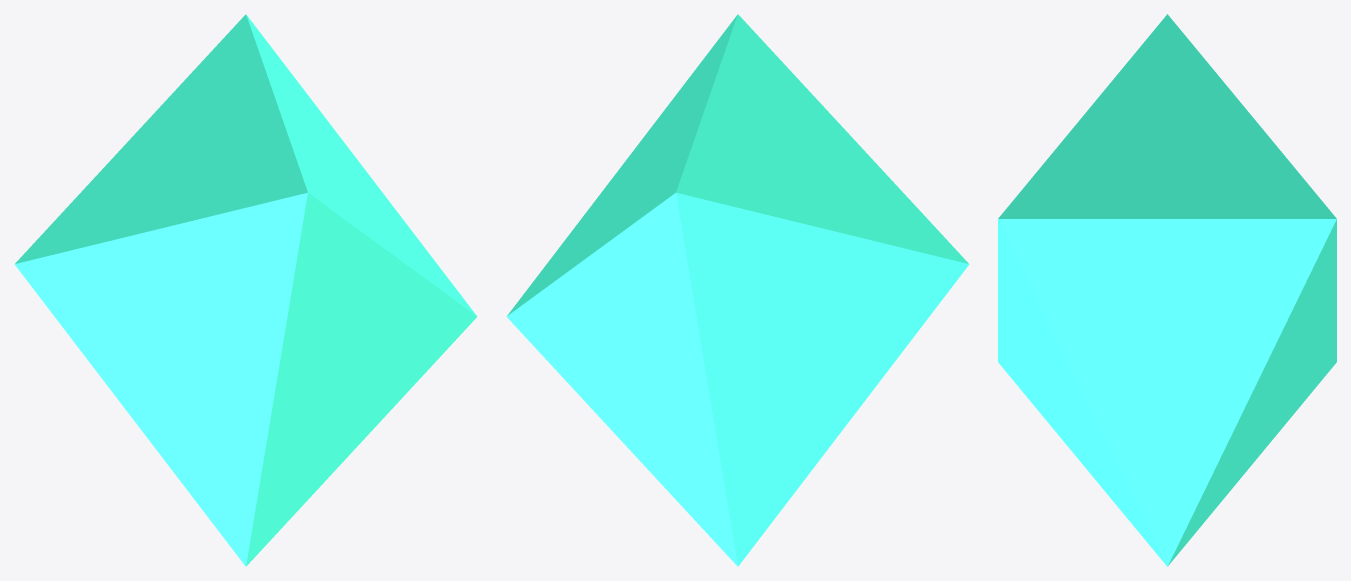
File: terra_worldmaul.glb
The picture shows the model from 3 angles, left to right: view 1: azimuth 30°, elevation 25°; view 2: azimuth 150°, elevation 25°; view 3: azimuth 270°, elevation 25°; orthographic projection.
Visible parts, largest first — view 1: Pelvis; view 2: Pelvis; view 3: Pelvis.
Part boxes in pixels (left/top/right/bottom): Pelvis: left=14, top=14, right=477, bottom=566; Pelvis: left=506, top=14, right=969, bottom=566; Pelvis: left=998, top=14, right=1336, bottom=566.
Bounding box in the file's own units: 1 × 1.8 × 1.
